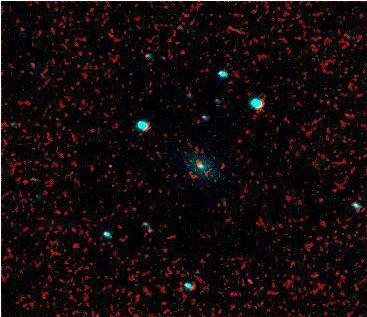star: (234, 265, 264, 295)
